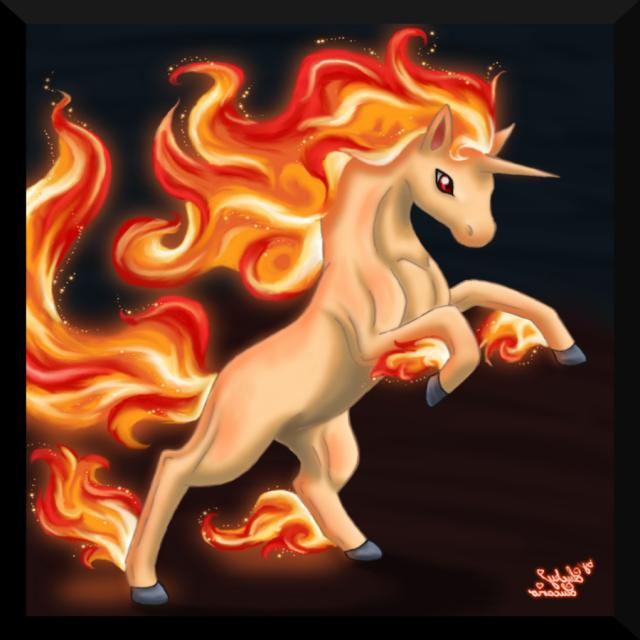Rapidash: (114, 82, 532, 559)
